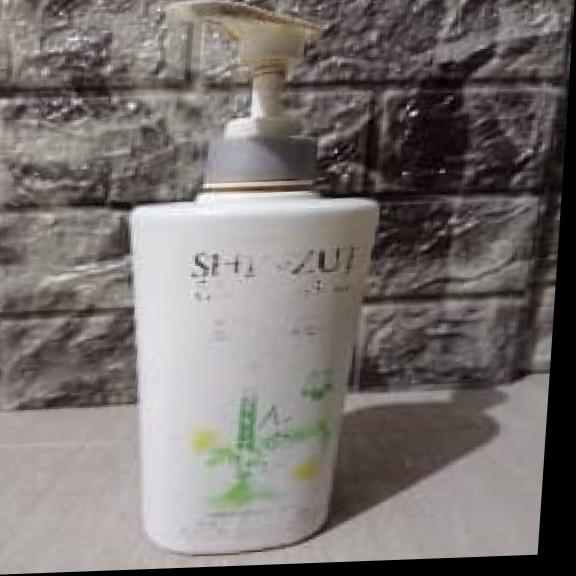Plastik: (131, 1, 379, 552)
